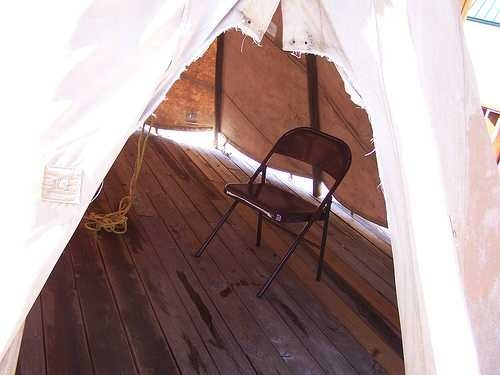obstacle: (195, 127, 350, 296)
